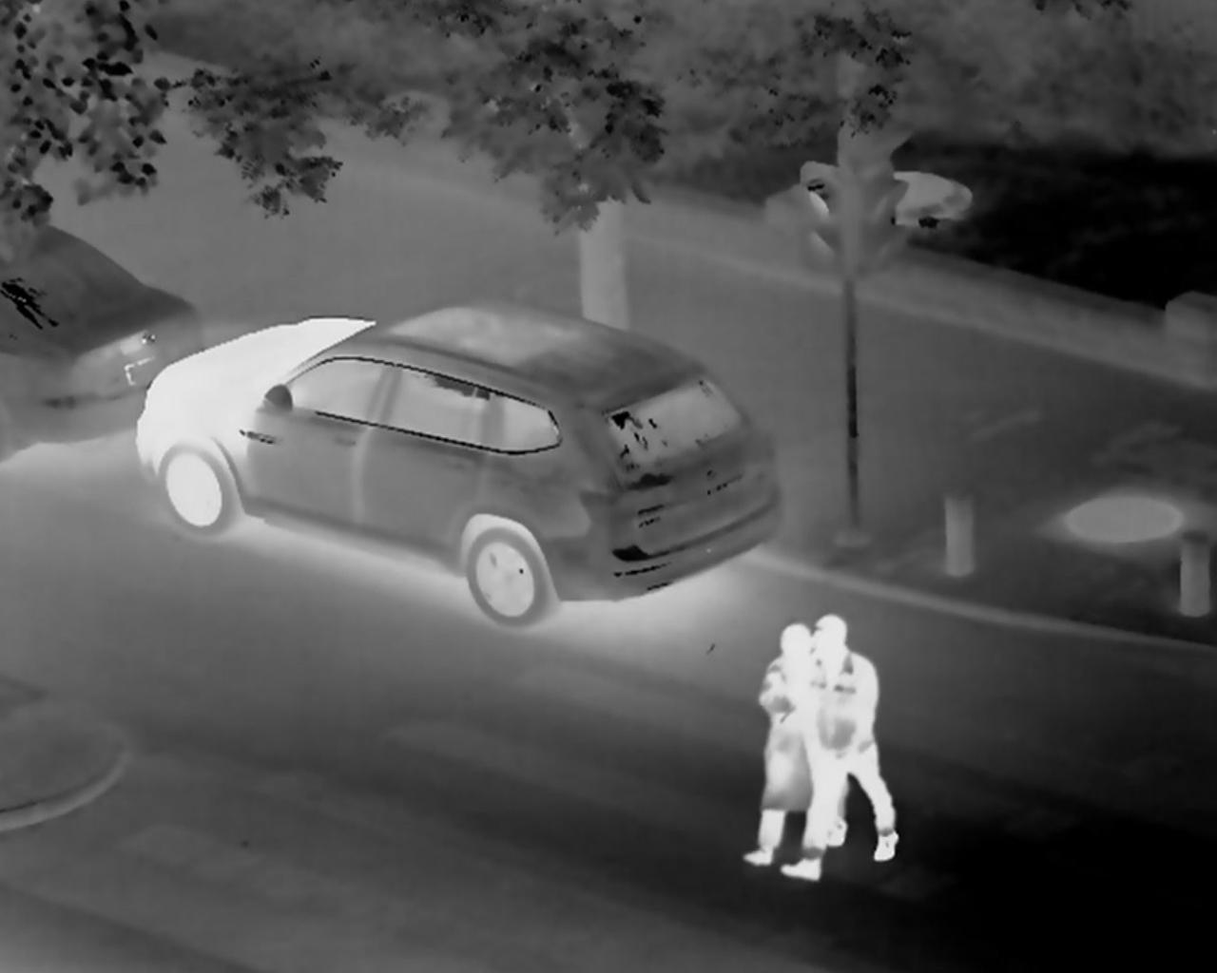person: (808, 611, 908, 881), (748, 609, 803, 854)
